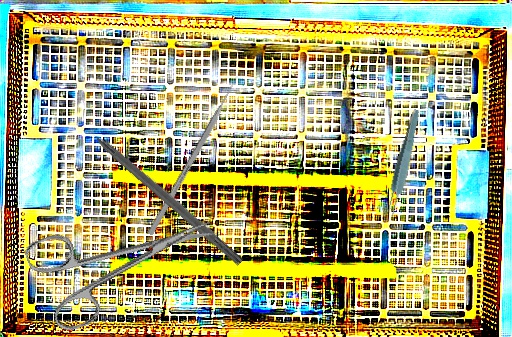Hook Surgical: (73, 114, 246, 267)
Iris Scissors: (22, 185, 229, 337)
Pusher: (147, 72, 242, 237)
Tissue Forceps: (382, 107, 424, 219)
